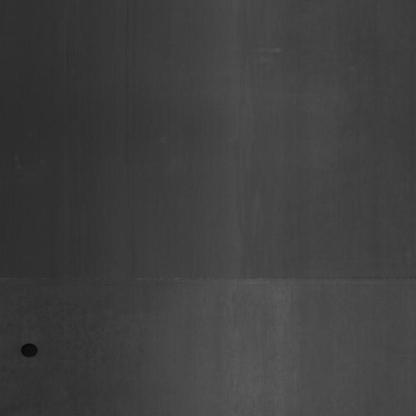punching_hole: (19, 338, 41, 362)
welding_line: (1, 266, 414, 294)
